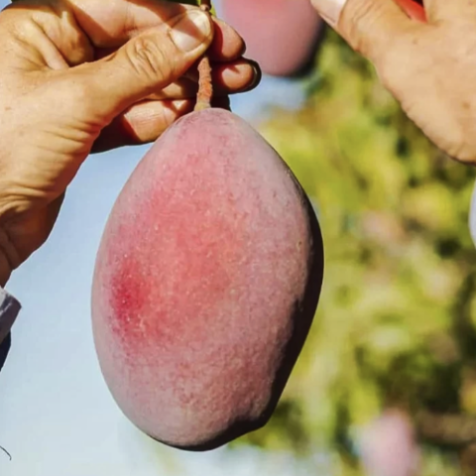mango: (72, 94, 352, 456)
